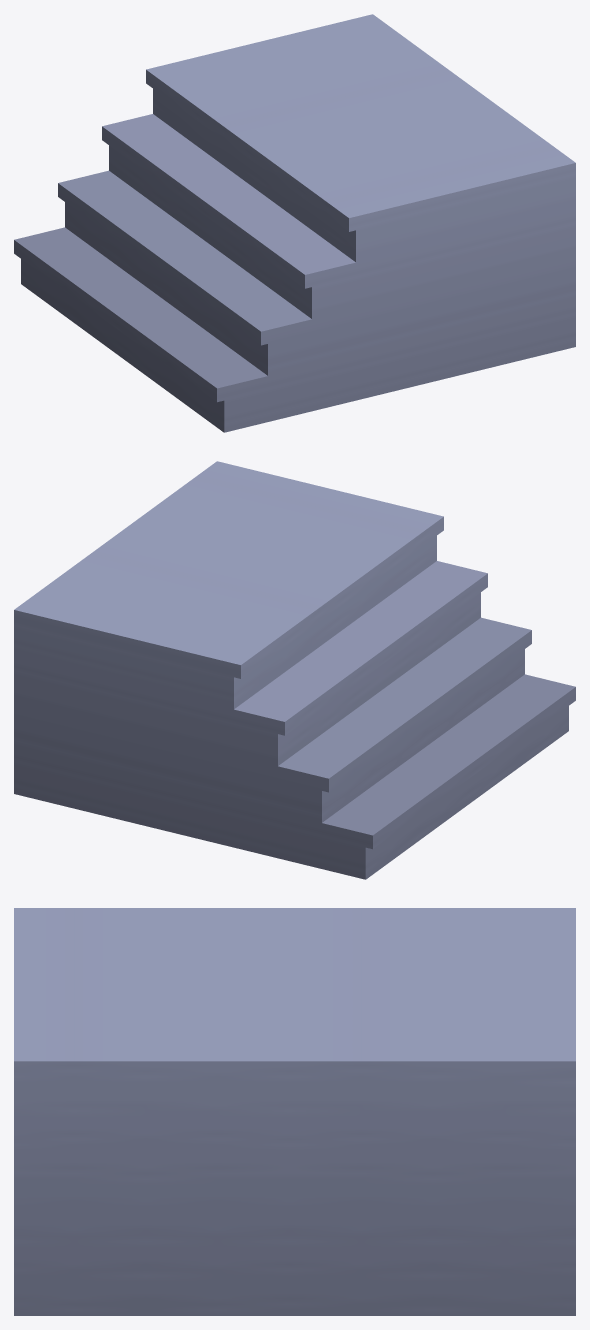
File: stairsFull.fbx
3 renders of one model, top to bottom at view 1: azimuth 30°, elevation 25°; view 2: azimuth 150°, elevation 25°; view 3: azimuth 270°, elevation 25°, orthographic. The views are drawn at different scales.
Parts seen in each view (by area): view 1: stairsFull; view 2: stairsFull; view 3: stairsFull.
Boxes of the visible parts, left/top/right/bottom form: stairsFull: left=14, top=14, right=575, bottom=432; stairsFull: left=14, top=461, right=575, bottom=879; stairsFull: left=14, top=908, right=575, bottom=1315.
Size of the model in its own units: 1.02 by 1 by 0.5.
